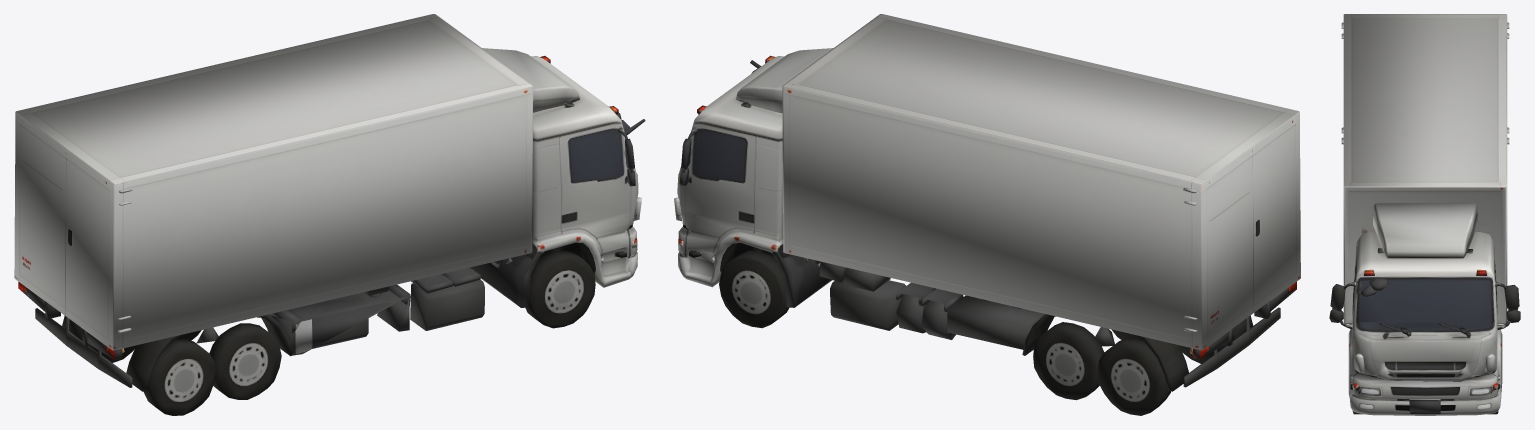
The model's file is box-truck.glb.
The picture shows the model from 3 angles, left to right: view 1: azimuth 30°, elevation 25°; view 2: azimuth 150°, elevation 25°; view 3: azimuth 270°, elevation 25°; orthographic projection. The views are drawn at different scales.
Parts seen in each view (by area): view 1: tripo_node_d1718313-d349-45f0-9531-329317048100; view 2: tripo_node_d1718313-d349-45f0-9531-329317048100; view 3: tripo_node_d1718313-d349-45f0-9531-329317048100.
Boxes of the visible parts, x1,y1,x2,y2 form: tripo_node_d1718313-d349-45f0-9531-329317048100: (14, 14, 645, 415); tripo_node_d1718313-d349-45f0-9531-329317048100: (674, 14, 1300, 415); tripo_node_d1718313-d349-45f0-9531-329317048100: (1329, 14, 1520, 415).
Bounding box in the file's own units: 0.998 × 0.4551 × 0.3691.
Materials: 1 (1 with a texture image).
